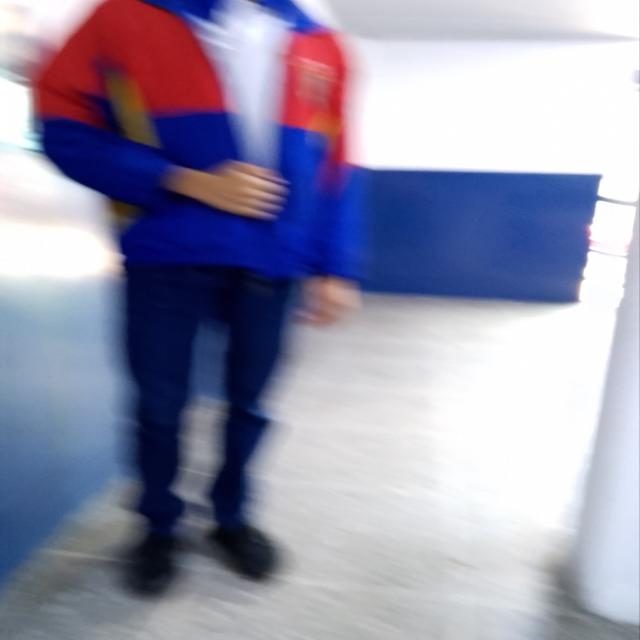chaqueta_unefa: (30, 0, 361, 280)
pantalon_oscuro: (121, 270, 290, 536)
